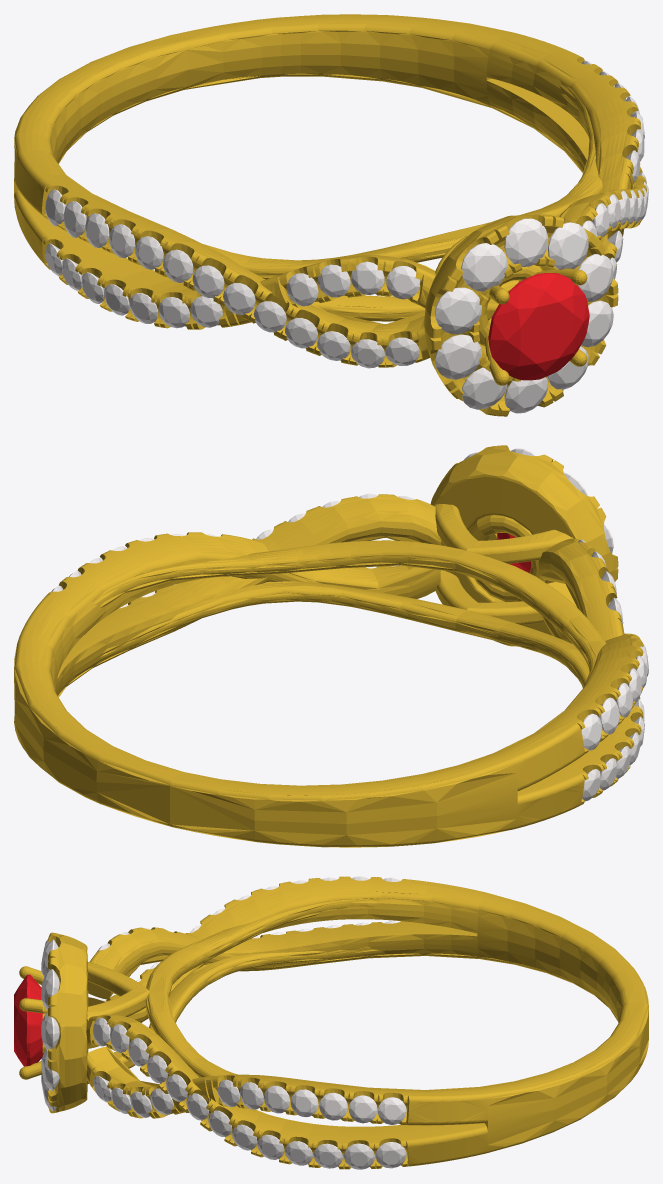
The model's file is NewRubyRing4.glb.
3 views of the same model, one above another, from view 1: azimuth 30°, elevation 25°; view 2: azimuth 150°, elevation 25°; view 3: azimuth 270°, elevation 25° (orthographic). The views are drawn at different scales.
Bounding box in the file's own units: 20.11 × 6.8 × 23.99.
